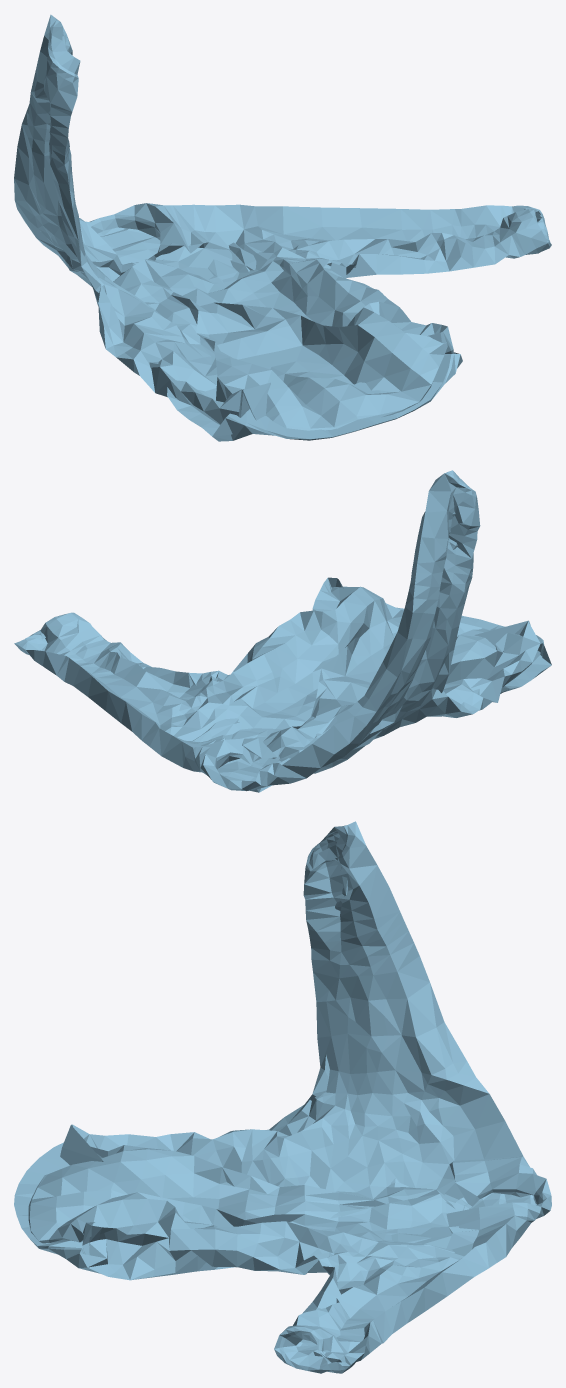
The model's file is frame_10.glb.
3 views of the same model, one above another, from view 1: azimuth 30°, elevation 25°; view 2: azimuth 150°, elevation 25°; view 3: azimuth 270°, elevation 25° (orthographic). The views are drawn at different scales.
Visible parts, largest first — view 1: frame_10.obj; view 2: frame_10.obj; view 3: frame_10.obj.
Boxes of the visible parts, x1,y1,x2,y2 form: frame_10.obj: [14, 14, 551, 441]; frame_10.obj: [14, 470, 551, 792]; frame_10.obj: [14, 821, 551, 1373].
Size of the model in its own units: 1.49 by 0.9679 by 1.38.
